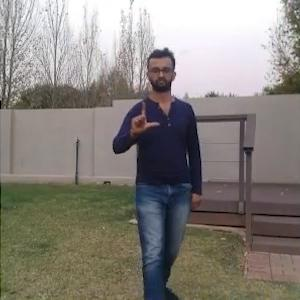land_hand: (127, 98, 161, 136)
